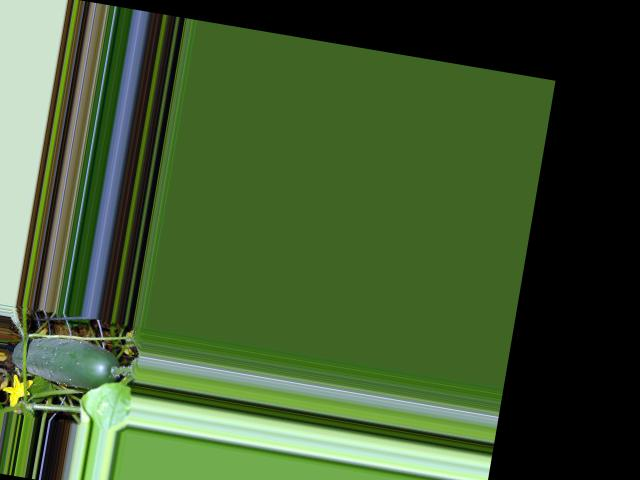cucumber: (10, 329, 125, 393)
